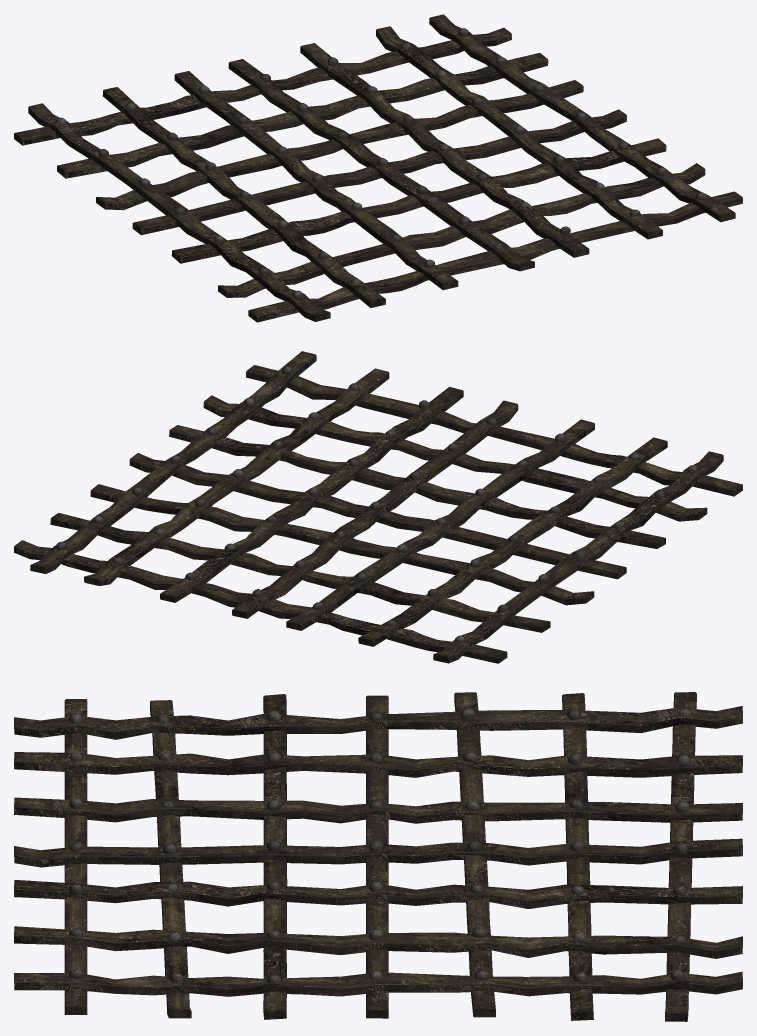
File: SM_Lattice_01_01.fbx
3 views of the same model, one above another, from view 1: azimuth 30°, elevation 25°; view 2: azimuth 150°, elevation 25°; view 3: azimuth 270°, elevation 25° (orthographic). The views are drawn at different scales.
Parts seen in each view (by area): view 1: Lattice_01_01_LOD0; view 2: Lattice_01_01_LOD0; view 3: Lattice_01_01_LOD0.
Boxes of the visible parts, x1,y1,x2,y2 form: Lattice_01_01_LOD0: (14,14,742,322); Lattice_01_01_LOD0: (14,351,742,663); Lattice_01_01_LOD0: (14,692,742,1021).
Bounding box in the file's own units: 300 × 303 × 15.76.
